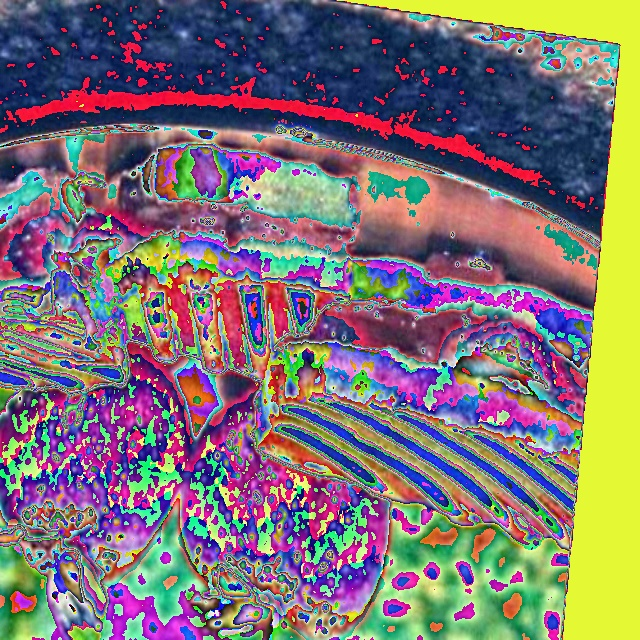background: (0, 141, 594, 639)
